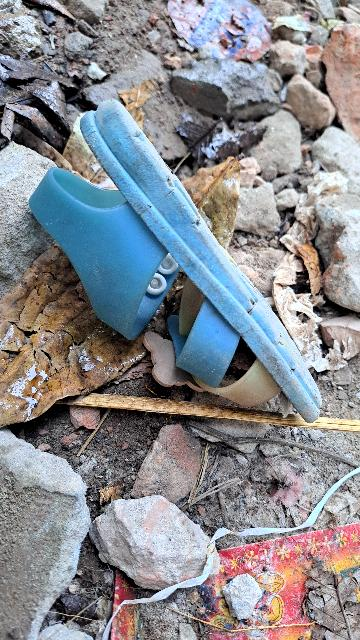sandal: (0, 76, 360, 527)
